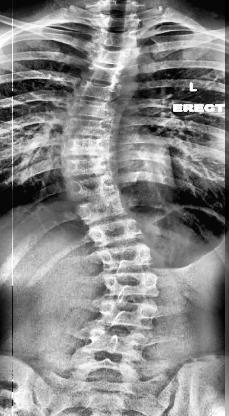Vertebrae: (81, 327, 147, 363), (92, 274, 168, 304), (86, 244, 162, 274), (90, 299, 158, 331), (83, 217, 149, 249), (52, 152, 124, 178), (59, 174, 129, 200), (68, 198, 134, 224), (57, 116, 121, 140), (54, 136, 116, 158), (58, 100, 118, 122), (66, 82, 124, 104), (82, 44, 138, 66), (83, 28, 139, 50), (78, 65, 126, 83)
